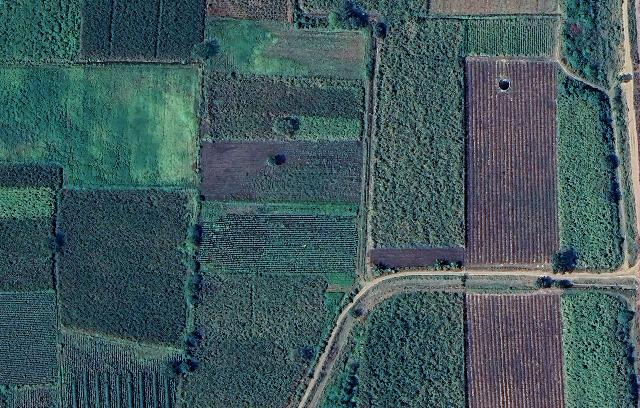EmptyFarms: (370, 249, 464, 276)
Farms: (0, 64, 199, 191), (183, 273, 358, 408), (56, 188, 193, 355), (374, 20, 463, 249), (468, 59, 561, 262), (320, 292, 463, 408), (554, 60, 617, 270), (466, 293, 569, 408), (199, 72, 364, 140), (200, 141, 362, 207), (202, 16, 368, 80), (197, 213, 359, 273), (563, 292, 638, 407), (0, 293, 60, 389), (0, 0, 83, 61), (468, 18, 557, 56)
